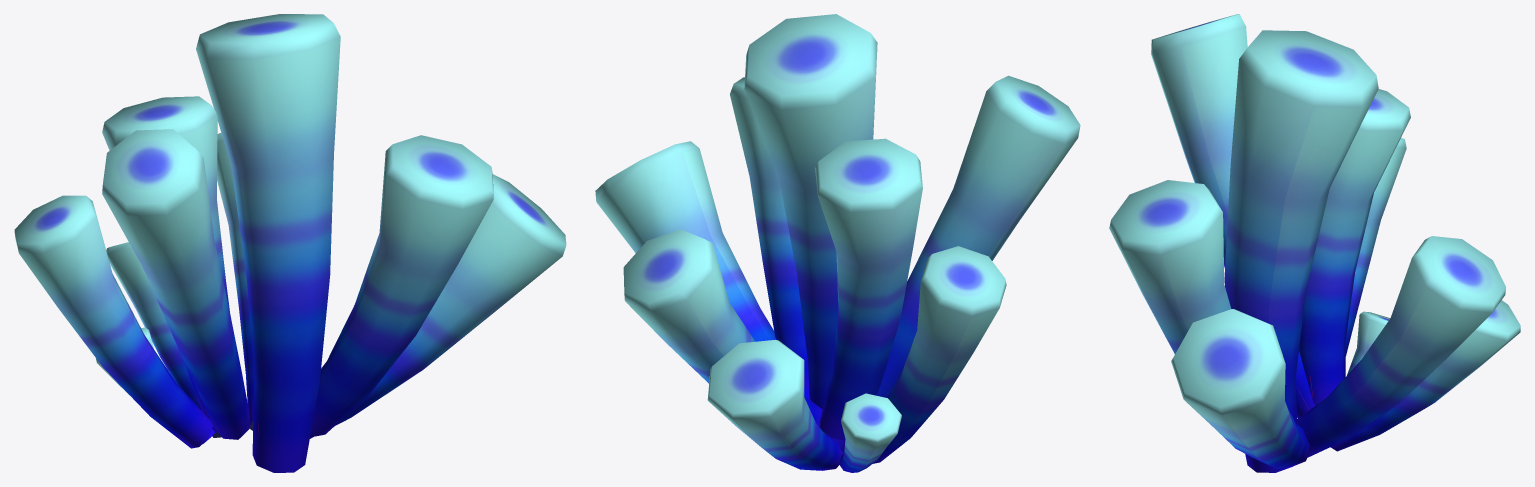
The model's file is Avatar_plant_02.fbx.
3 renders of one model, left to right at view 1: azimuth 30°, elevation 25°; view 2: azimuth 150°, elevation 25°; view 3: azimuth 270°, elevation 25°, orthographic. The views are drawn at different scales.
Parts seen in each view (by area): view 1: Avatar_plant_02; view 2: Avatar_plant_02; view 3: Avatar_plant_02.
Part boxes in pixels (x1,y1,x2,y2): Avatar_plant_02: (14,14,566,472); Avatar_plant_02: (595,14,1080,472); Avatar_plant_02: (1109,14,1520,472).
Bounding box in the file's own units: 81.01 × 70.97 × 62.57.
